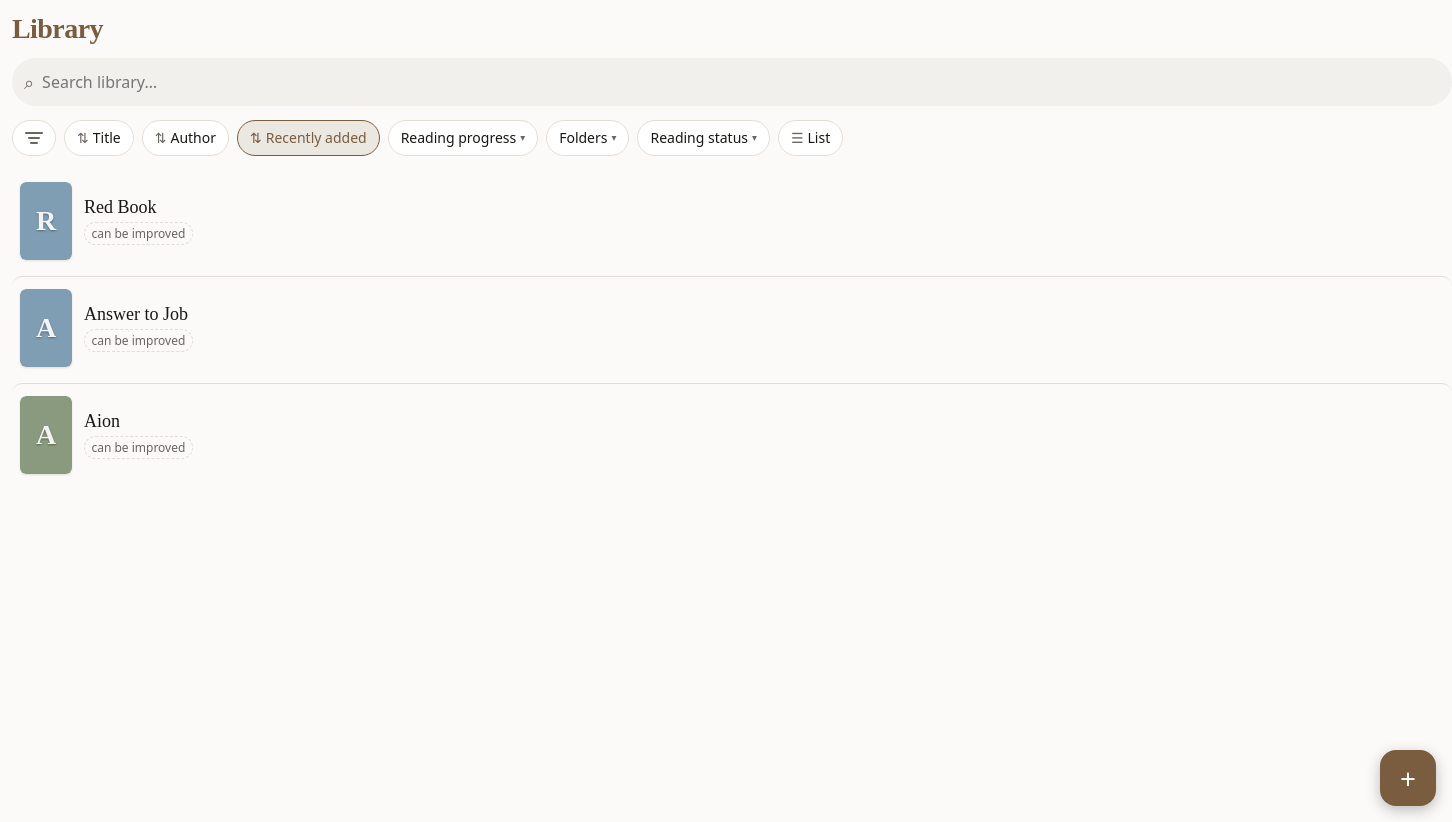
it: the filter controls under the search bar › lights exactly one chip, and moves it to whichever was tapped
The image size is (1452, 822).
Expected: the text "Aion" is shown, [84,411,120,431]
Click the button "Reading progress ▾". click: (463,138)
box: [388,120,538,156]
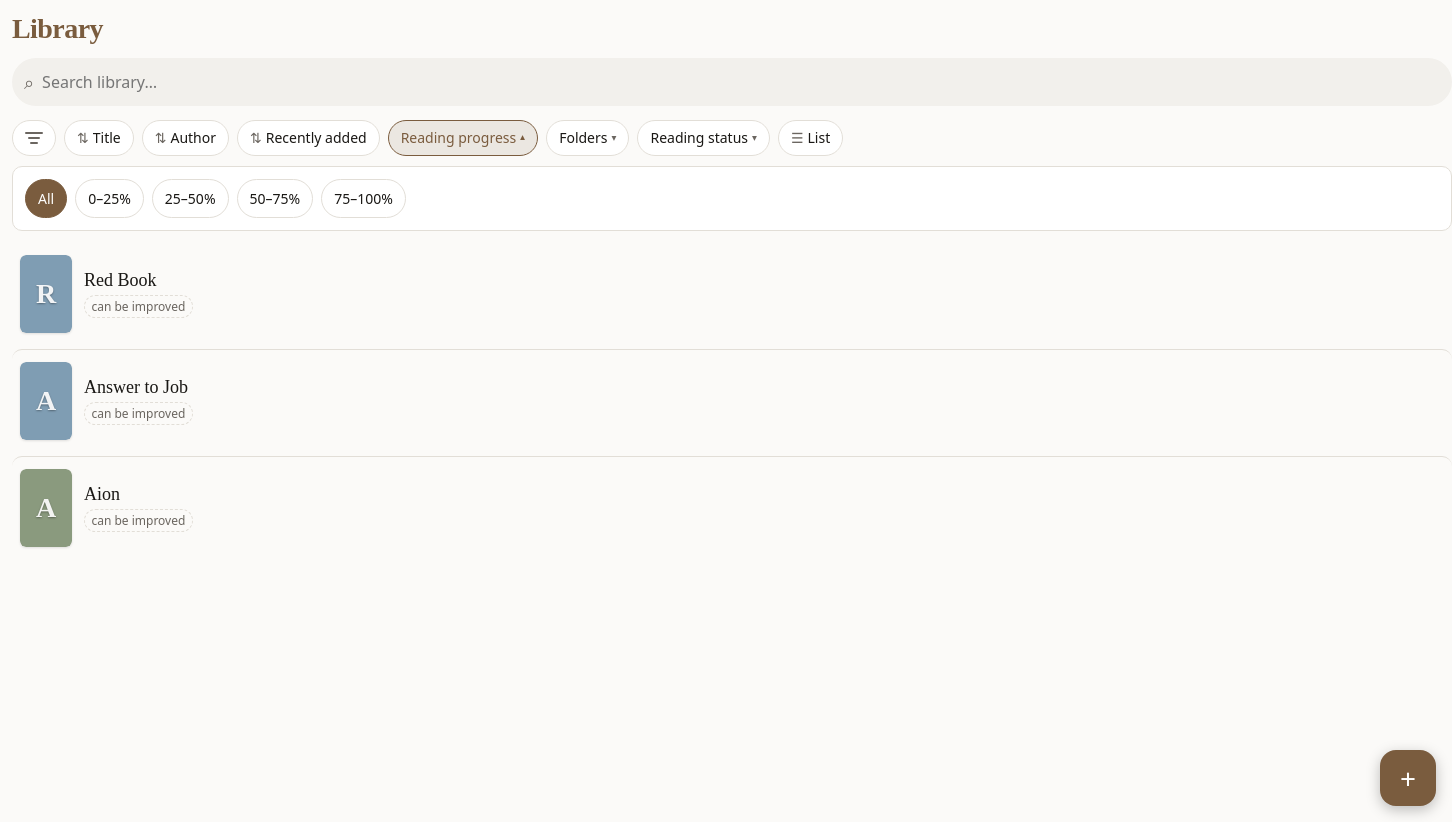
Click the button "Folders ▾". click: (588,138)
box: [546,120,630,156]
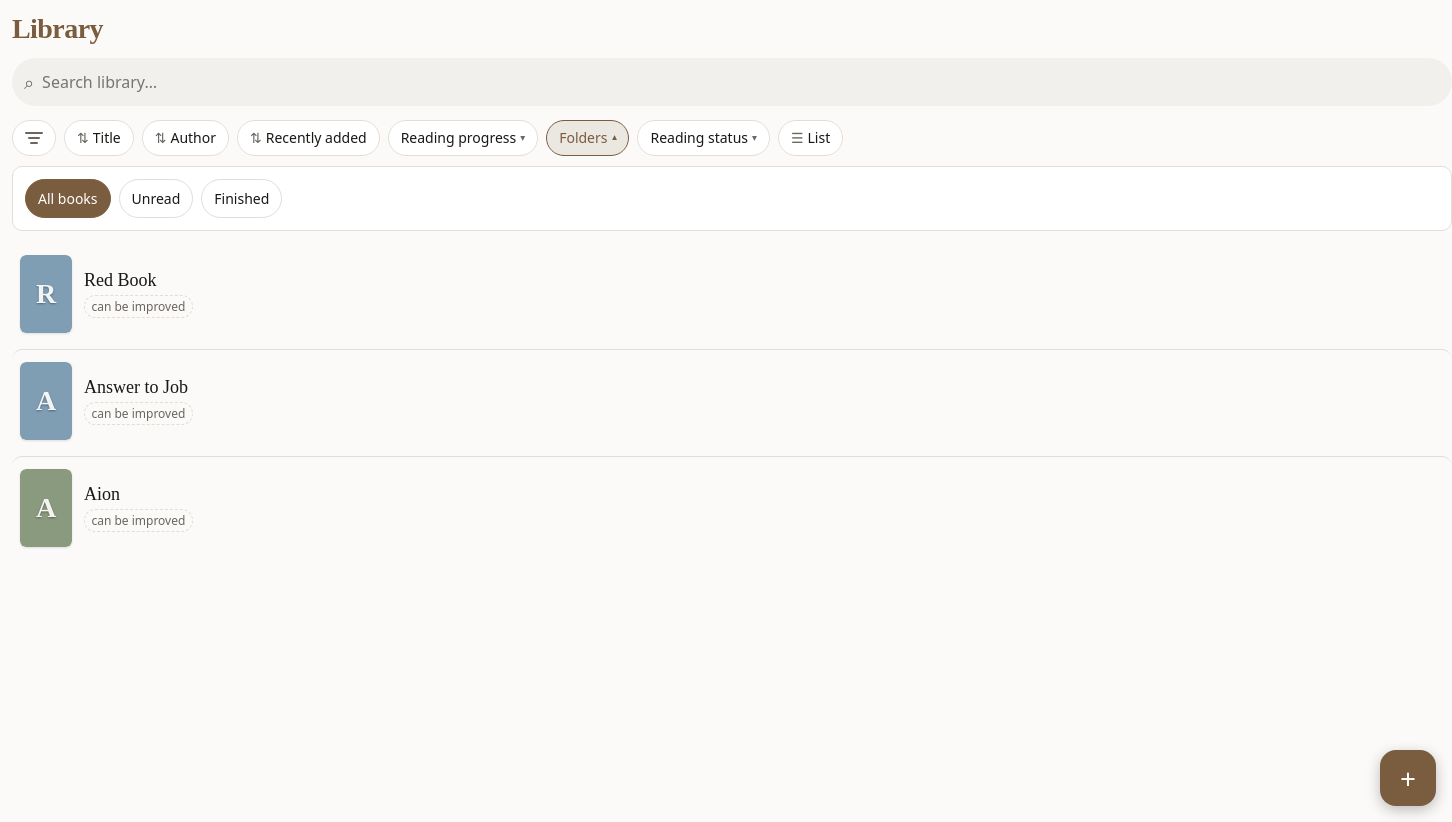
Click the button "Reading status ▾". click: (704,138)
box: [637,120,770,156]
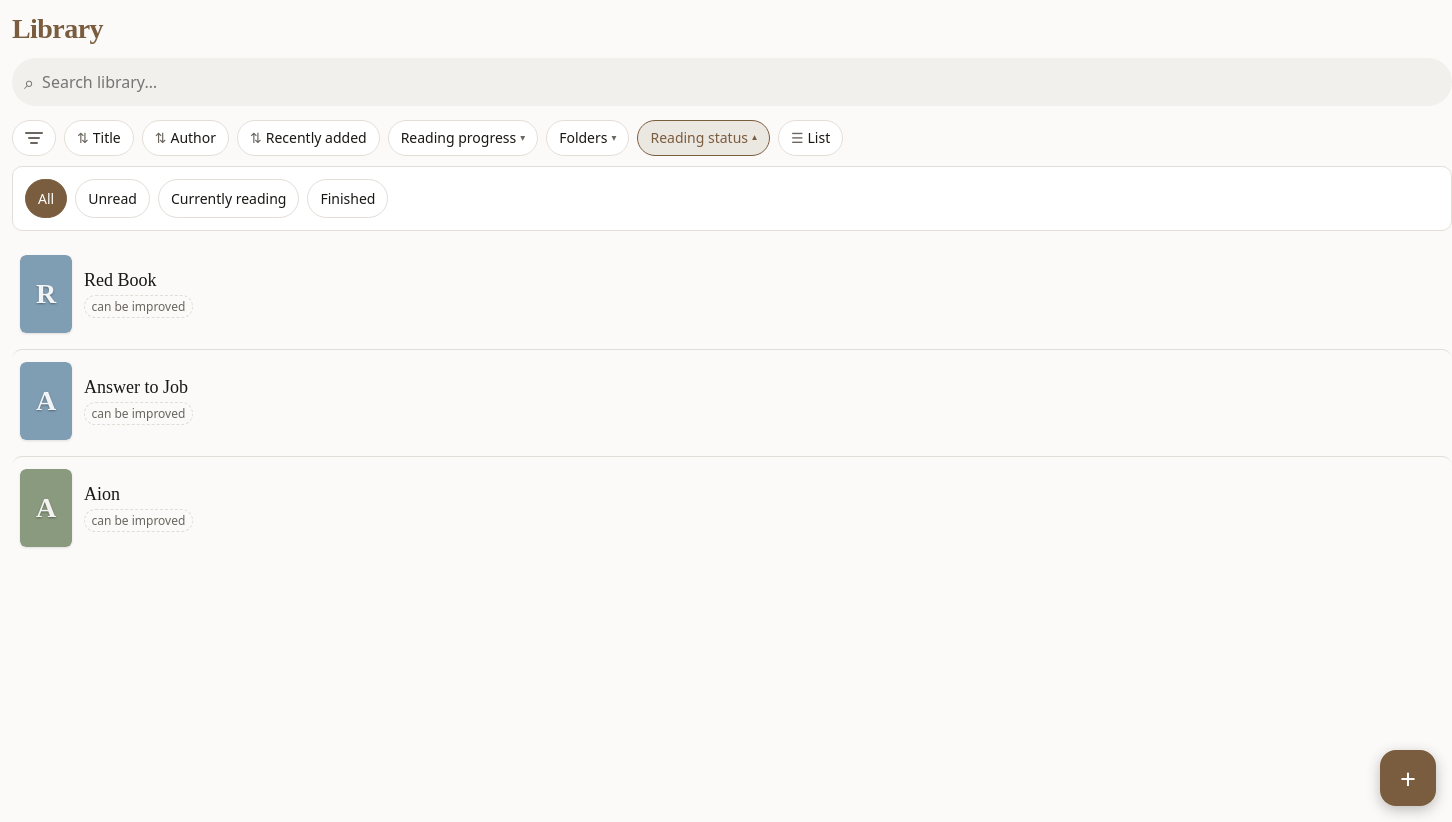
Click the button "⇅ Title". click: (99,138)
box: [64,120,134,156]
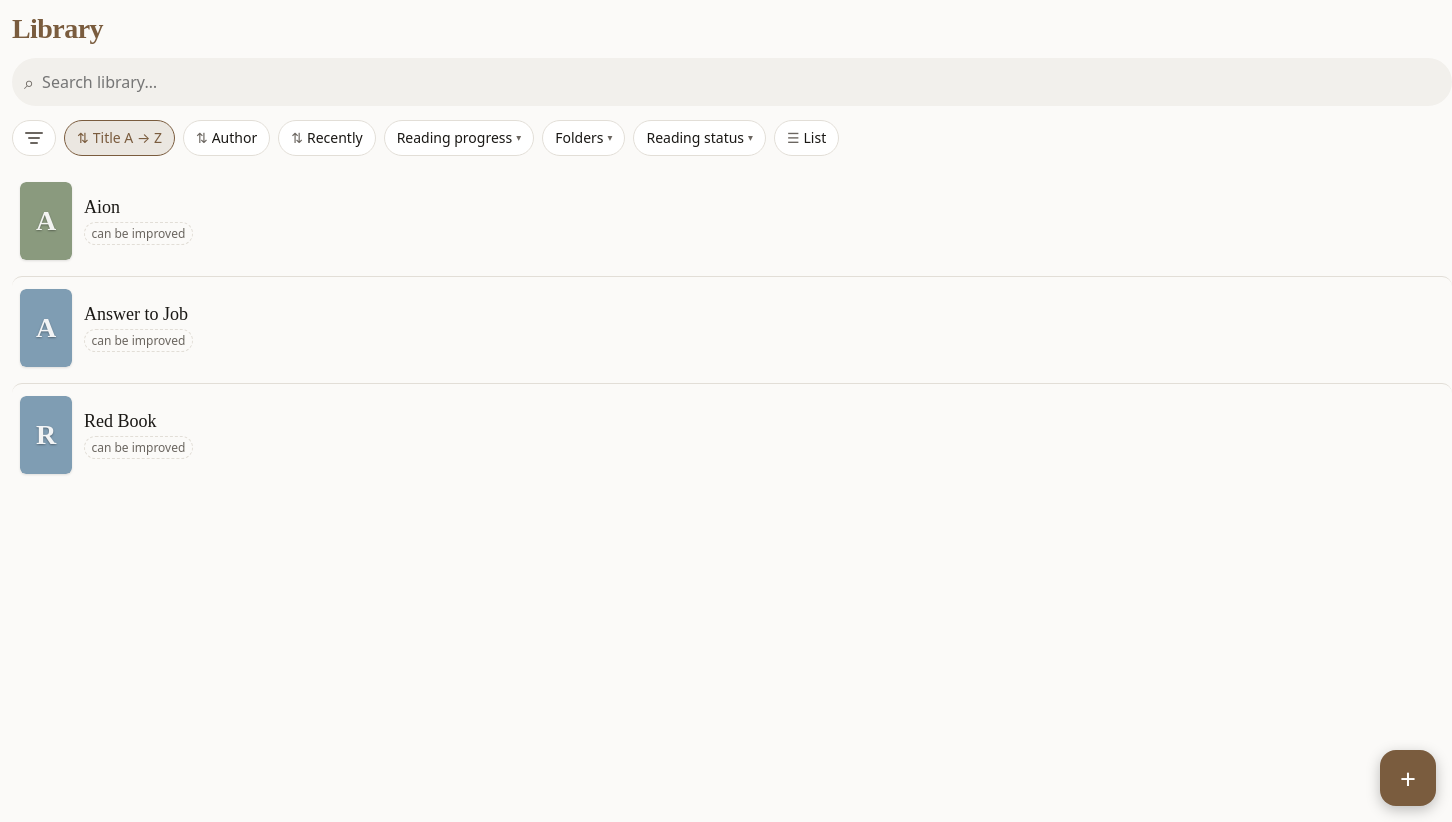
Now the button "⇅ Title A → Z" is shown, box [64,120,175,156]
